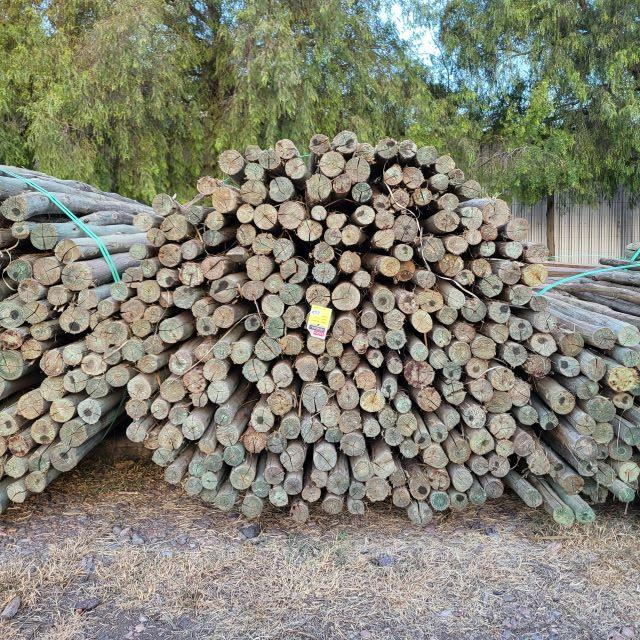package: (114, 129, 555, 531), (1, 163, 115, 517)
